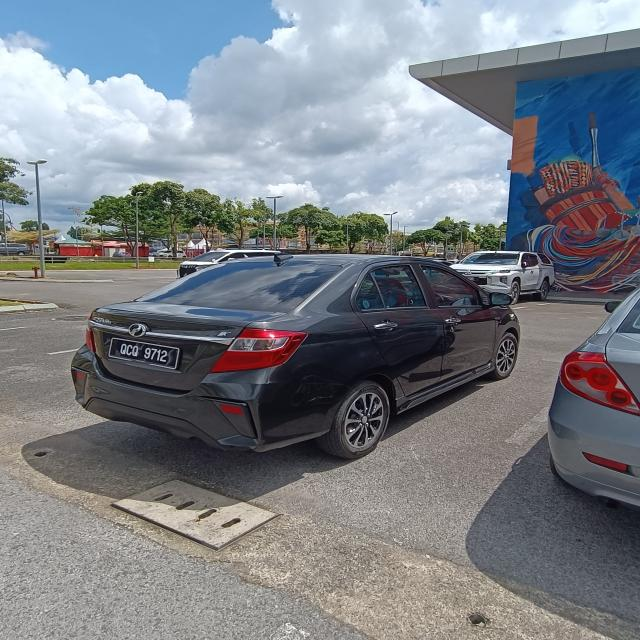PeroduaBezza: (70, 252, 521, 459)
